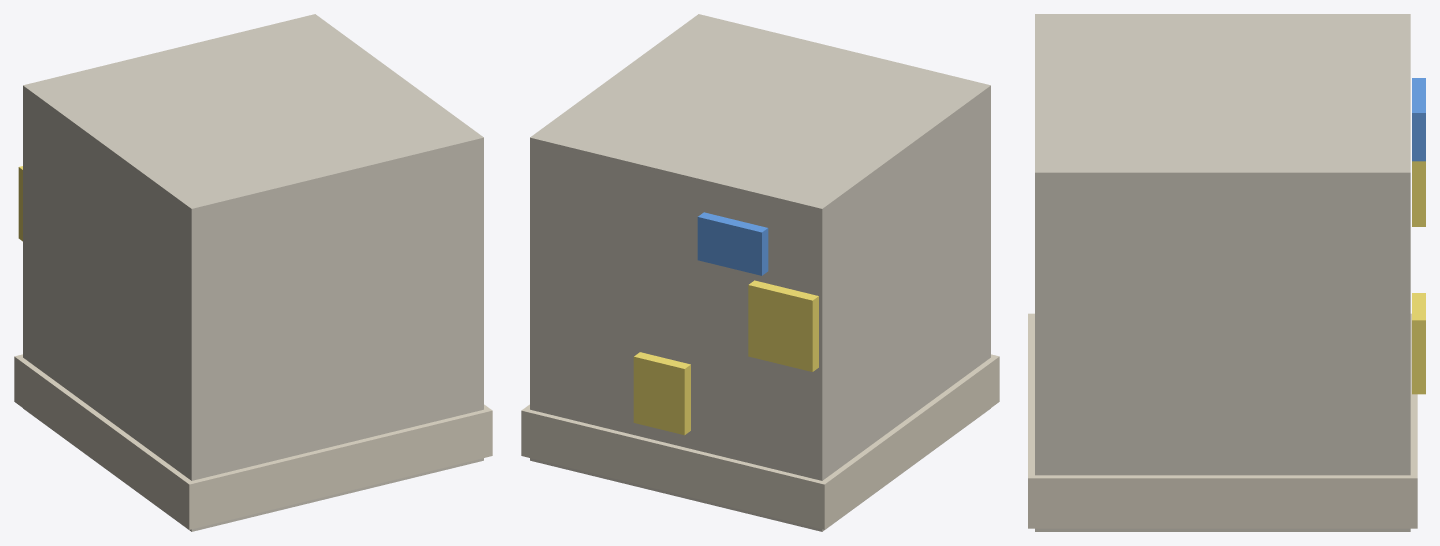
File: pintor_canela.glb
The picture shows the model from 3 angles, left to right: view 1: azimuth 30°, elevation 25°; view 2: azimuth 150°, elevation 25°; view 3: azimuth 270°, elevation 25°; orthographic projection. The views are drawn at different scales.
Parts seen in each view (by area): view 1: pintor_canela; view 2: pintor_canela; view 3: pintor_canela.
Boxes of the visible parts, left/top/right/bottom form: pintor_canela: left=14, top=14, right=492, bottom=531; pintor_canela: left=521, top=14, right=999, bottom=531; pintor_canela: left=1028, top=14, right=1425, bottom=531.
Size of the model in its own units: 0.28 by 0.285 by 0.286.
